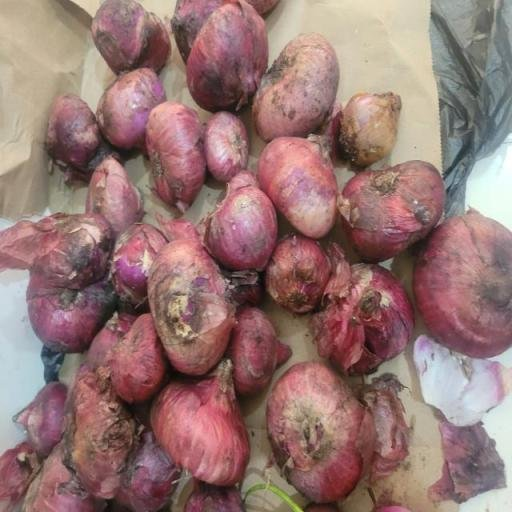healthy: (154, 373, 250, 480), (250, 136, 346, 231), (212, 187, 275, 273), (208, 112, 251, 180)
